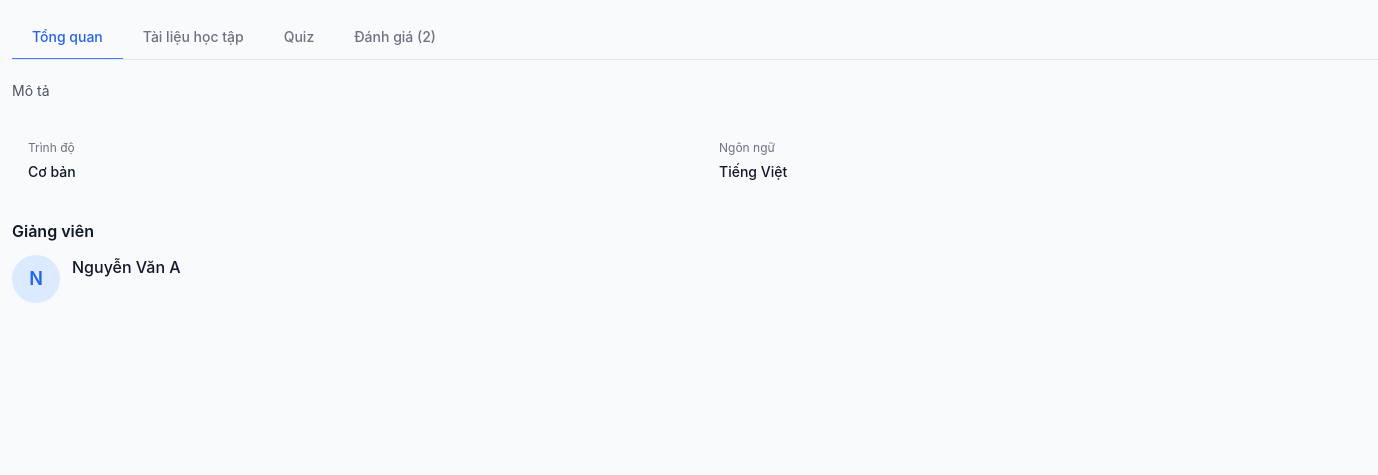
it: PlayerTabs › tab Đánh giá dùng tổng số THẬT từ API và có form viết
Click the button "Đánh giá (2)" at (395, 38), box [334,16,456,60]
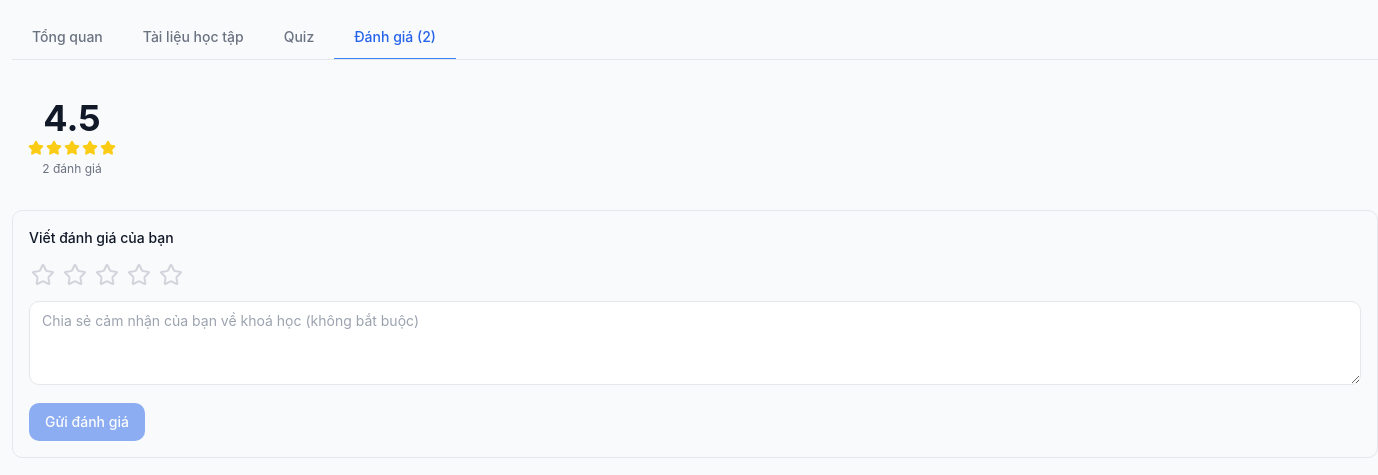
Now the text "Viết đánh giá của bạn" is shown, box [29,229,174,246]
Now the button "Gửi đánh giá" is shown, box [29,403,145,441]
